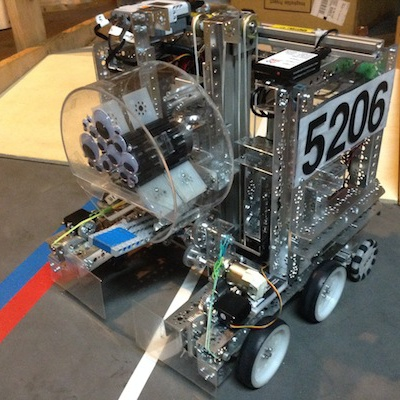robot: (46, 1, 398, 399)
